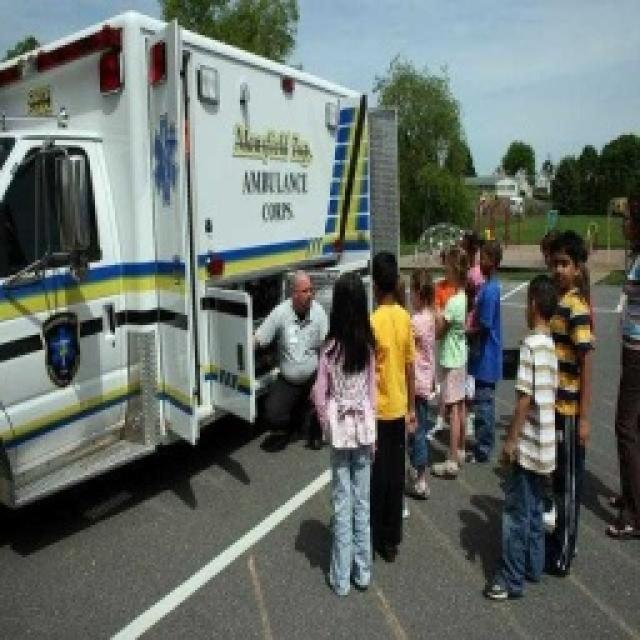emergency-vehicle: (0, 10, 382, 525)
